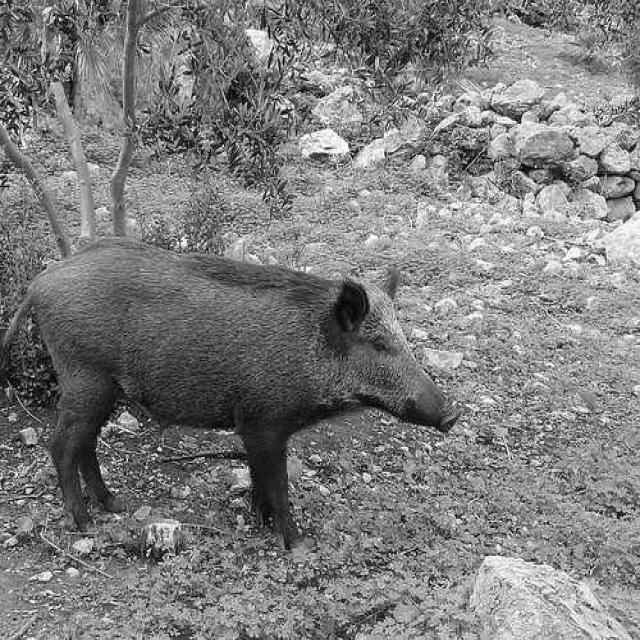boar: (26, 237, 458, 546)
